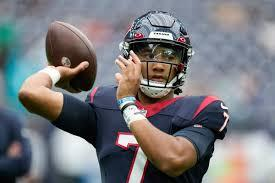americanFootball: (46, 21, 97, 92)
